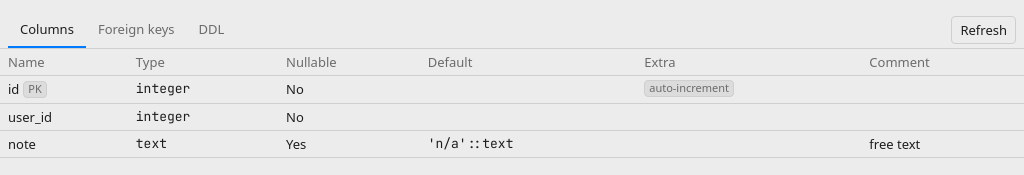
empty foreign keys show a message
This screenshot has width=1024, height=175.
Click the tab "Foreign keys" at (136, 30), box left=86, top=12, right=187, bottom=48
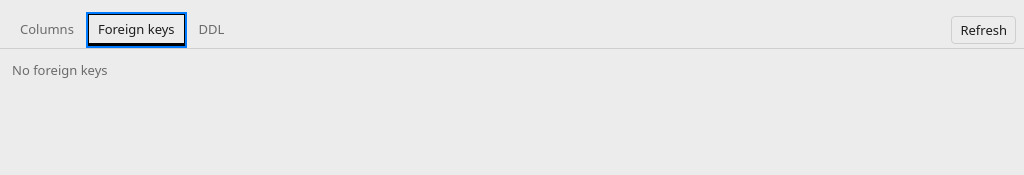
Check: the text "No foreign keys" is shown, box left=12, top=61, right=108, bottom=79
